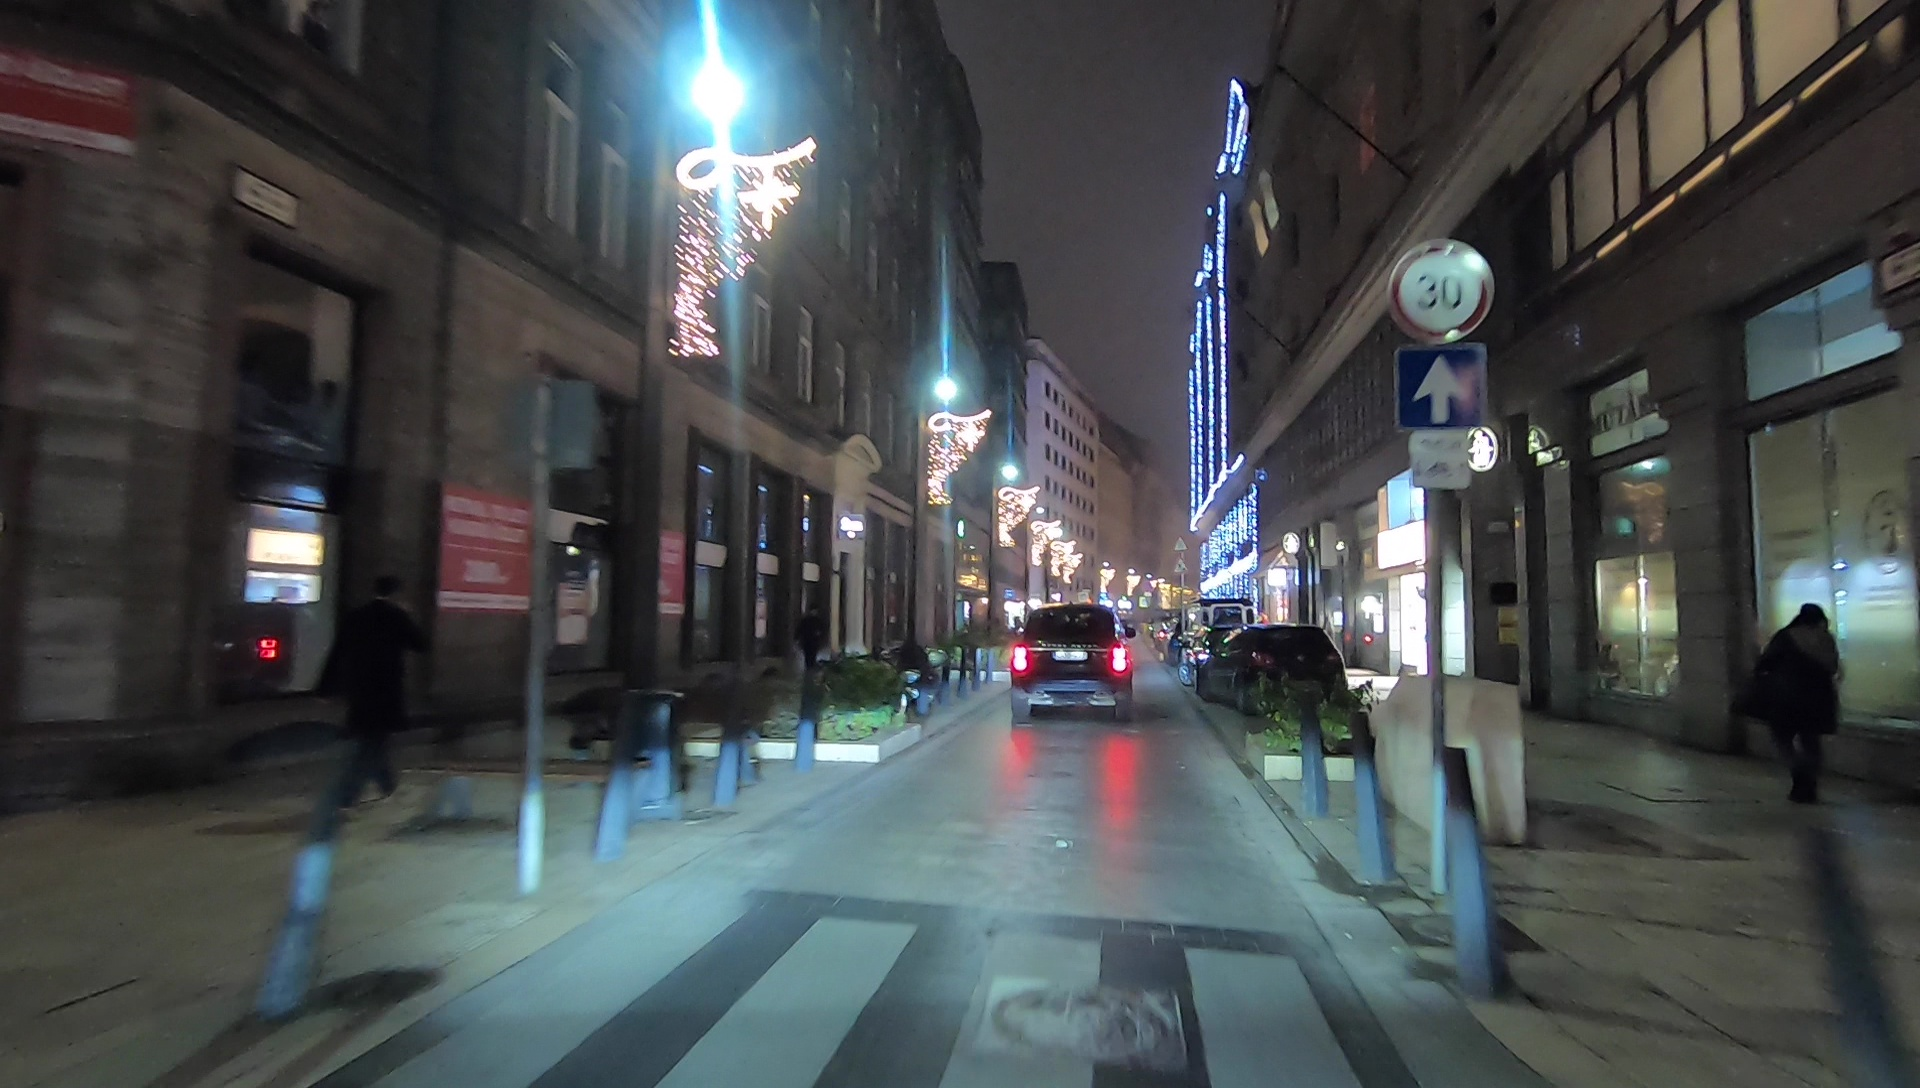person: (308, 580, 417, 819), (1758, 600, 1839, 815), (793, 606, 822, 681)
